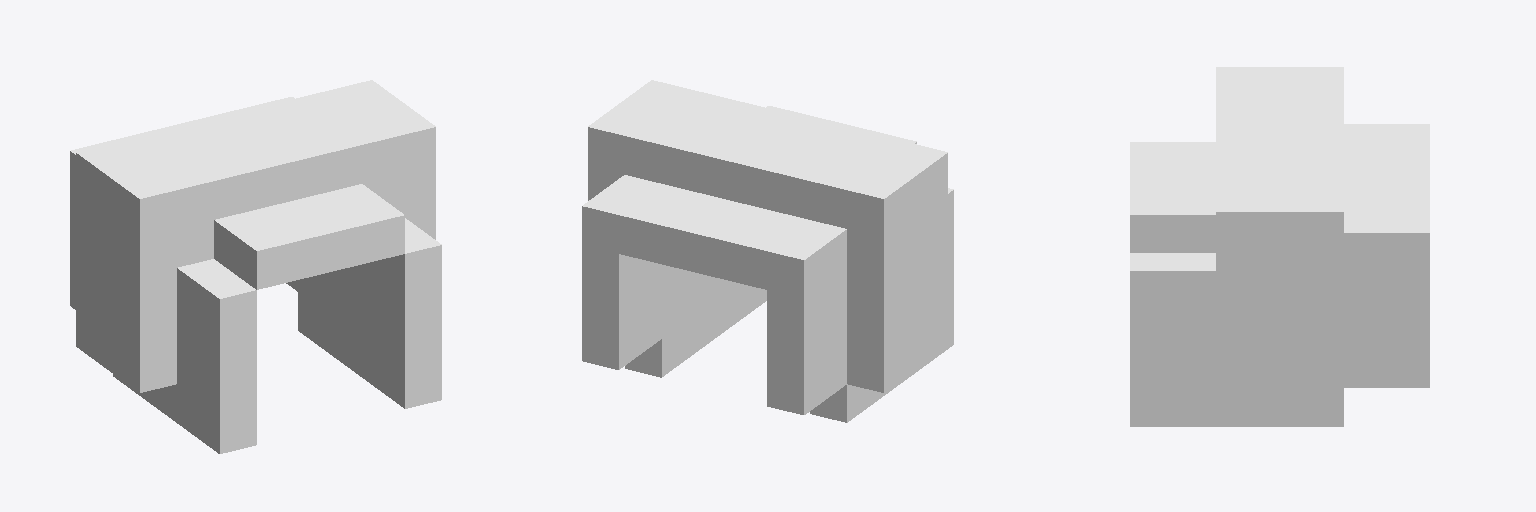
Rendered from Extra-15-CamoJet_Thruster_R.obj.
3 renders of one model, left to right at view 1: azimuth 30°, elevation 25°; view 2: azimuth 150°, elevation 25°; view 3: azimuth 270°, elevation 25°, orthographic.
Visible parts, largest first — view 1: CamoJet_Thruster_R; view 2: CamoJet_Thruster_R; view 3: CamoJet_Thruster_R.
Boxes of the visible parts, x1=… form: CamoJet_Thruster_R: x1=70, y1=80, x2=441, y2=453; CamoJet_Thruster_R: x1=582, y1=80, x2=953, y2=422; CamoJet_Thruster_R: x1=1130, y1=67, x2=1429, y2=426.
Size of the model in its own units: 0.8 by 0.6 by 0.7.